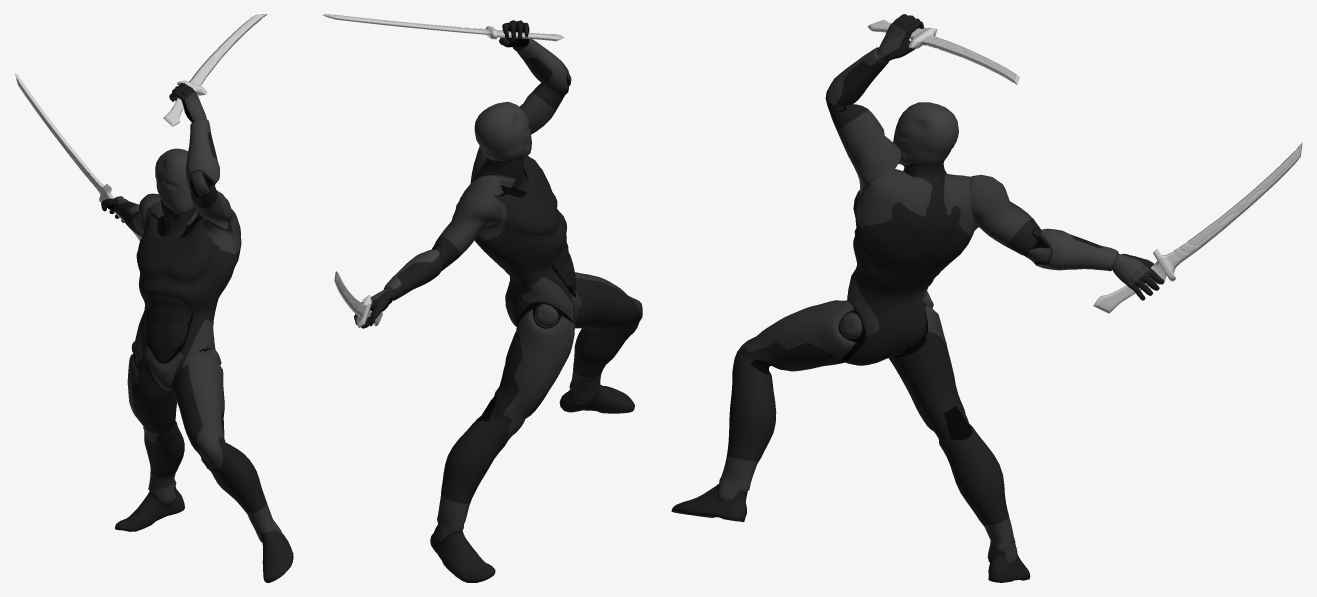
3 views of the same model, side by side, from view 1: azimuth 30°, elevation 25°; view 2: azimuth 150°, elevation 25°; view 3: azimuth 270°, elevation 25° (orthographic). The views are drawn at different scales.
Visible parts, largest first — view 1: Cyborg_Ninja_Killer, Sword_l, Sword_l001; view 2: Cyborg_Ninja_Killer, Sword_l, Sword_l001; view 3: Cyborg_Ninja_Killer, Sword_l001, Sword_l.
Boxes of the visible parts, x1,y1,x2,y2 form: Cyborg_Ninja_Killer: (101, 83, 293, 582); Sword_l: (163, 14, 267, 126); Sword_l001: (14, 72, 141, 240); Cyborg_Ninja_Killer: (354, 20, 642, 582); Sword_l: (322, 14, 563, 41); Sword_l001: (334, 271, 382, 327); Cyborg_Ninja_Killer: (671, 14, 1164, 582); Sword_l001: (1093, 142, 1302, 313); Sword_l: (867, 19, 1019, 84).
Size of the model in its own units: 83.97 by 213 by 212.
